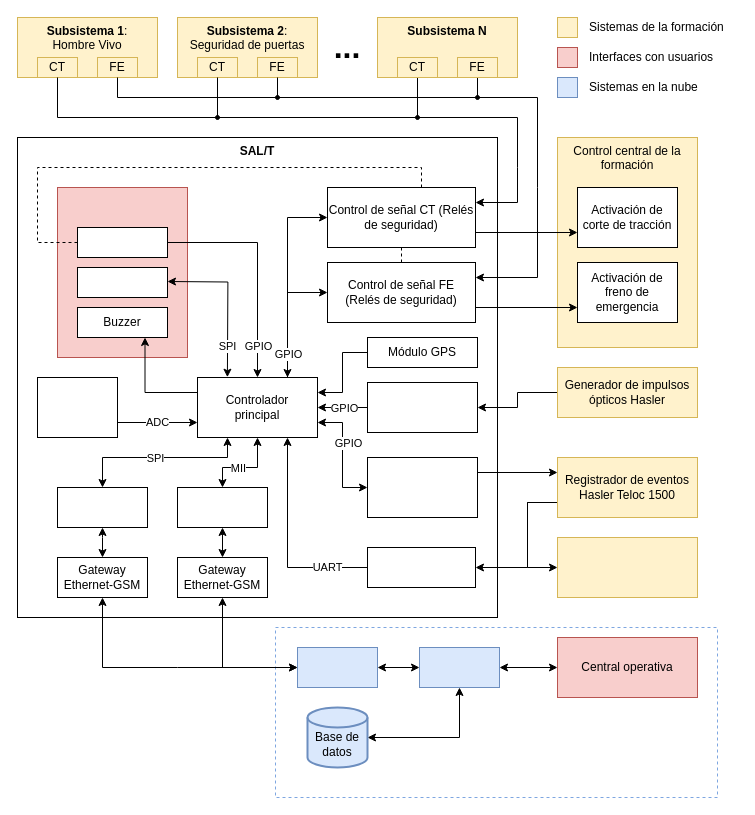
The diagram is 755 pixels wide and 815 high, and some of its shapes have lost their labels. Each missing label, with the box of its shape:
Acondicionamiento de señal: (366, 382, 478, 432)
Broker MQTT: (296, 646, 378, 688)
Control LEDs: (76, 266, 168, 298)
Controlador Ethernet SPI: (56, 486, 148, 528)
Indexador: (418, 646, 500, 688)
Indicador de velocidad Hasler: (556, 536, 698, 598)
Interfaz con el registrador (Relés de seguridad): (366, 456, 478, 518)
Interfaz humano-máquina: (56, 186, 188, 358)
Llave rotativa: (76, 226, 168, 258)
Medición de fuente de alimentación: (36, 376, 118, 438)
Tranceiver Ethernet PHY: (176, 486, 268, 528)
Transceiver RS-485: (366, 546, 476, 588)
